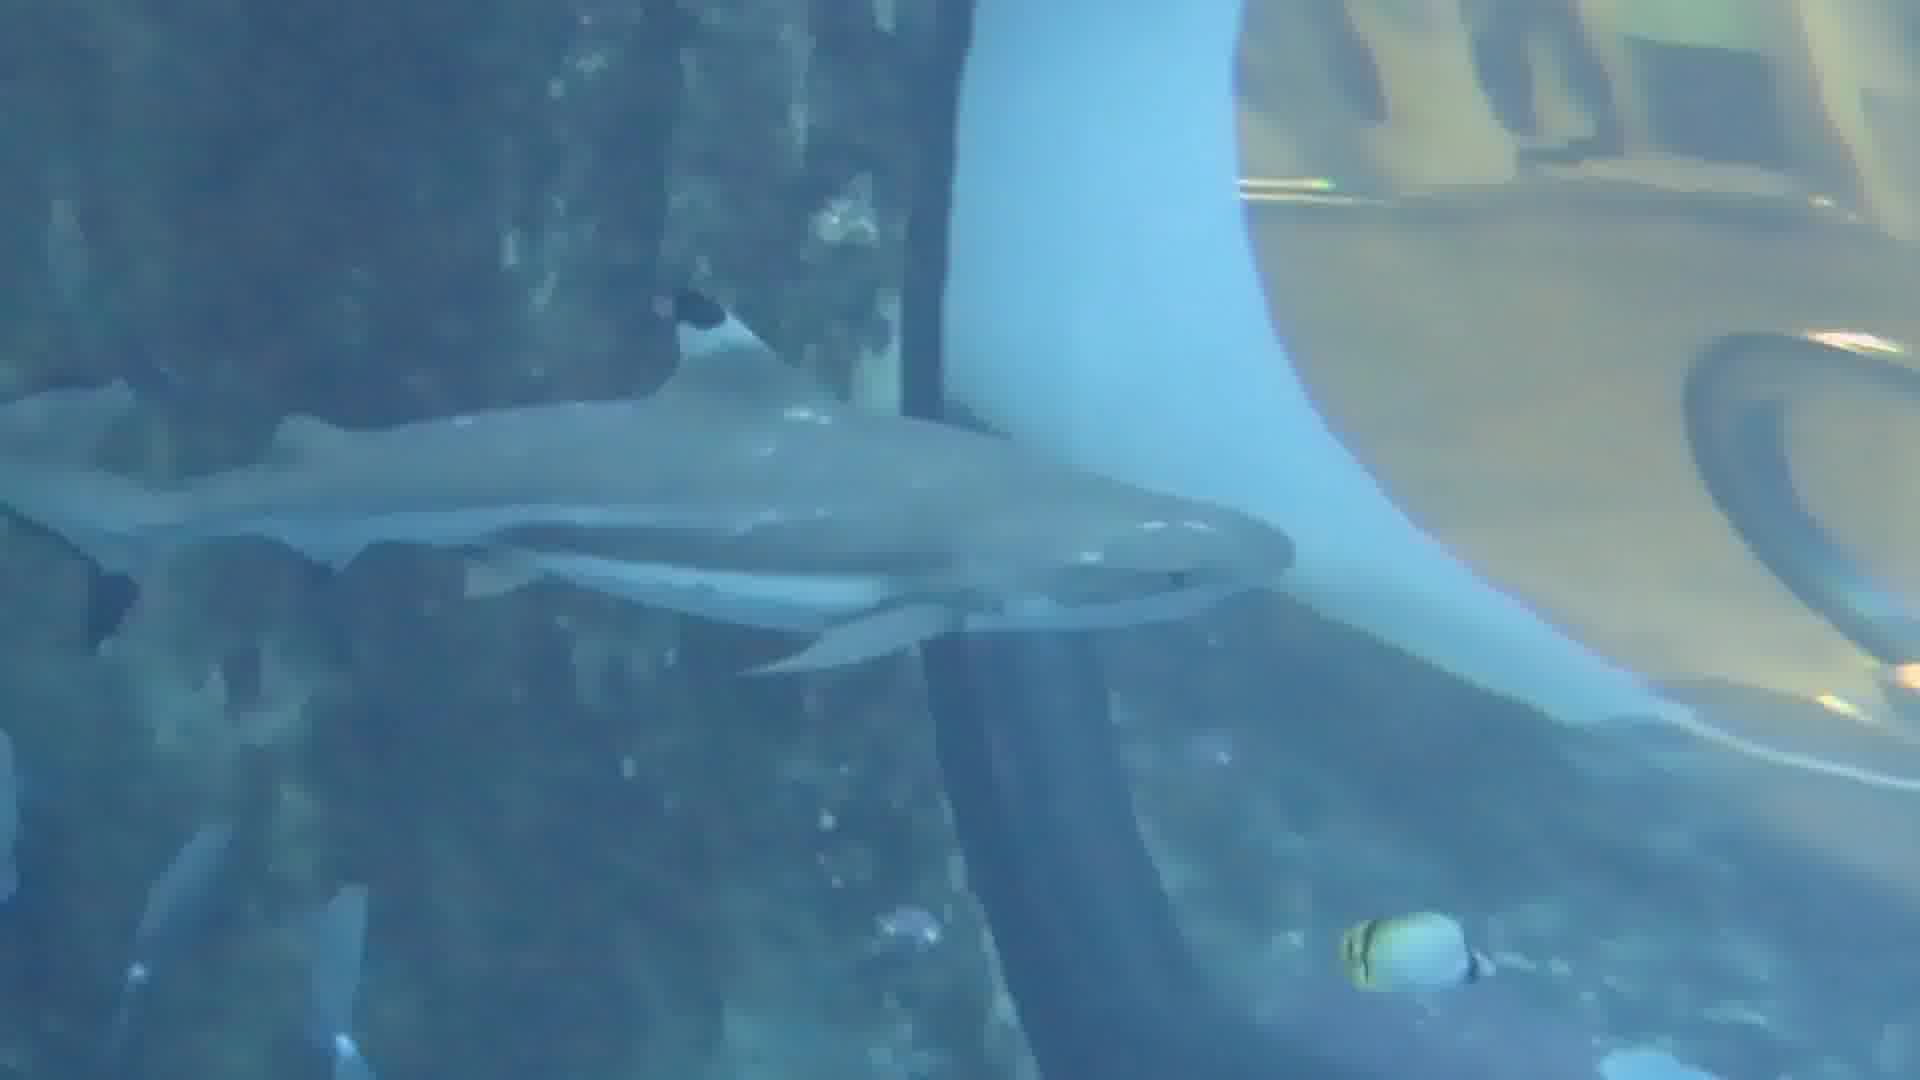Carcharhinus melanopterus: (1, 247, 1304, 698)
